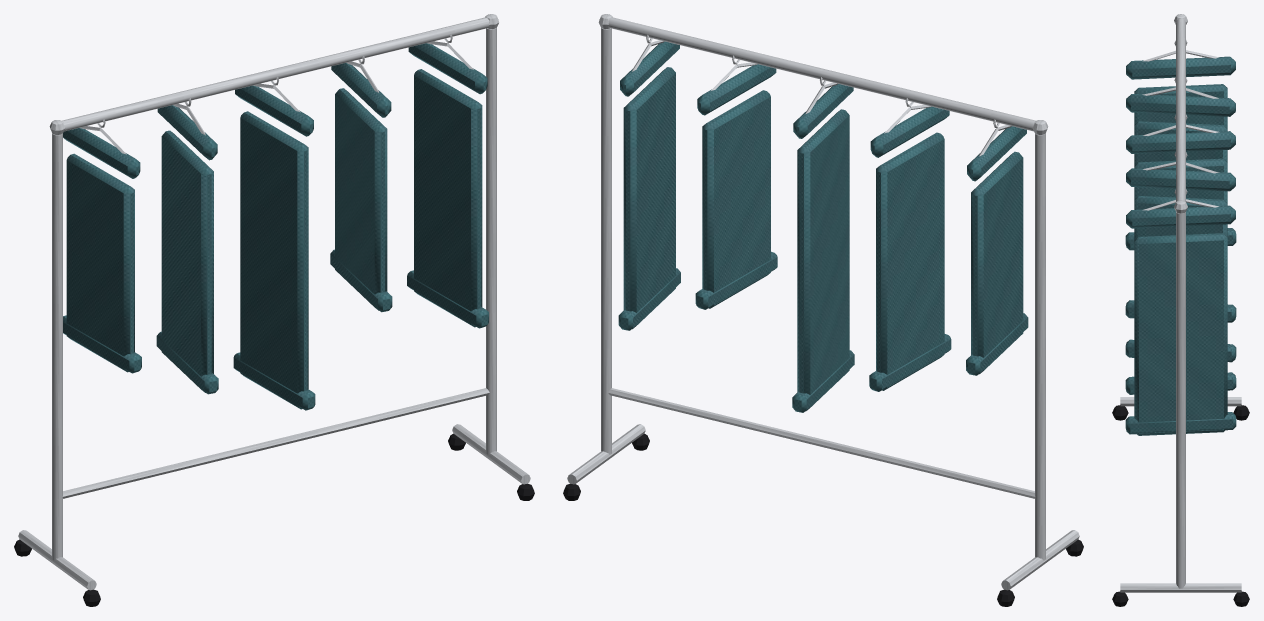
File: arara-16-5.glb
3 renders of one model, left to right at view 1: azimuth 30°, elevation 25°; view 2: azimuth 150°, elevation 25°; view 3: azimuth 270°, elevation 25°, orthographic. The views are drawn at different scales.
Parts seen in each view (by area): view 1: corpo.002, corpo.004, corpo, corpo.001, corpo.003, varao, coluna, coluna.001, travessa, ombros.004, ombros.002, ombros (+9 smaller); view 2: corpo.001, corpo.002, corpo.003, corpo.004, corpo, varao, coluna, coluna.001, travessa, ombros.001, ombros.003, ombros (+9 smaller); view 3: corpo.004, coluna.001, ombros, ombros.003, ombros.001, ombros.002, ombros.004, varao, corpo.002, corpo, corpo.001, corpo.003 (+7 smaller).
Part boxes in pixels (x1,y1,x2,y2): corpo.002: [240, 111, 308, 409]; corpo.004: [414, 69, 482, 327]; corpo: [66, 153, 134, 372]; corpo.001: [161, 130, 213, 392]; corpo.003: [335, 88, 387, 310]; varao: [62, 17, 489, 131]; coluna: [52, 133, 62, 560]; coluna.001: [486, 27, 496, 454]; travessa: [62, 388, 489, 498]; ombros.004: [408, 43, 487, 94]; ombros.002: [235, 85, 313, 136]; ombros: [63, 128, 140, 178]; corpo.001: [876, 132, 944, 390]; corpo.002: [797, 109, 849, 411]; corpo.003: [702, 90, 770, 308]; corpo.004: [623, 67, 675, 329]; corpo: [971, 151, 1023, 374]; varao: [608, 17, 1035, 131]; coluna: [1035, 133, 1045, 560]; coluna.001: [601, 27, 611, 454]; travessa: [608, 388, 1035, 498]; ombros.001: [870, 106, 949, 157]; ombros.003: [697, 64, 776, 115]; ombros: [967, 126, 1026, 181]; corpo.004: [1134, 233, 1227, 435]; coluna.001: [1176, 212, 1185, 588]; ombros: [1126, 56, 1235, 79]; ombros.003: [1126, 168, 1235, 191]; ombros.001: [1126, 94, 1235, 116]; ombros.002: [1126, 131, 1235, 153]; ombros.004: [1126, 205, 1235, 228]; varao: [1176, 18, 1185, 201]; corpo.002: [1134, 158, 1227, 202]; corpo: [1134, 84, 1227, 128]; corpo.001: [1134, 121, 1227, 165]; corpo.003: [1134, 196, 1227, 240].
Bounding box in the file's own units: 1.66 × 1.63 × 0.5.
3 materials, 2 textured.
